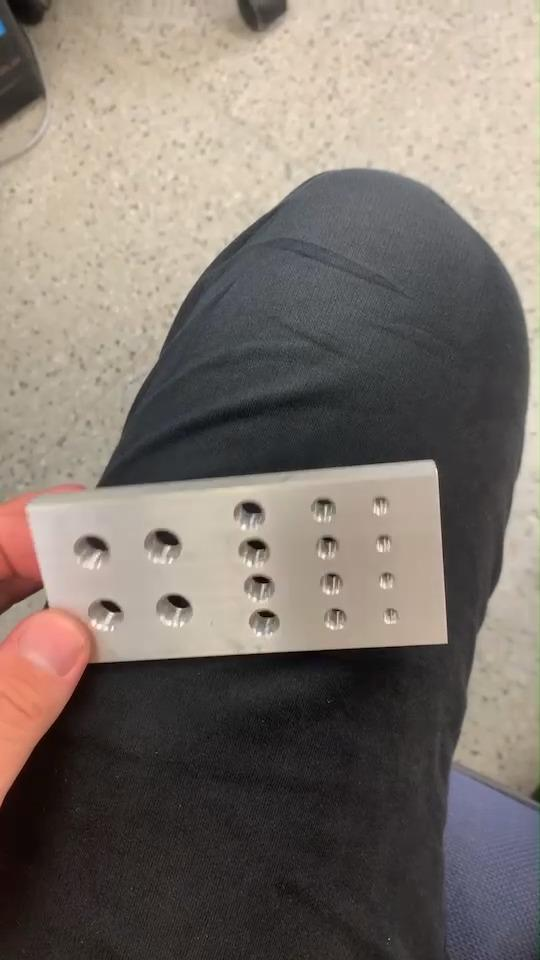hole: (67, 530, 116, 575), (140, 524, 186, 570), (152, 586, 196, 631), (88, 594, 128, 636), (234, 498, 270, 532), (246, 608, 284, 640), (236, 537, 275, 568), (244, 572, 278, 605), (318, 604, 354, 634), (308, 494, 340, 526), (314, 533, 343, 564), (316, 572, 347, 598), (369, 492, 392, 522), (374, 534, 396, 556), (377, 569, 396, 594), (382, 605, 402, 627)
